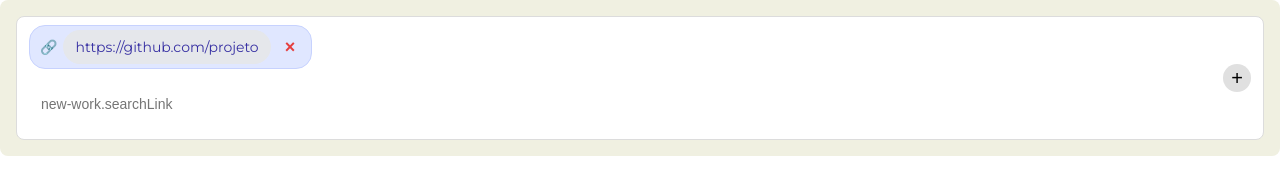
Test case: LinkInput - Sugestões › filtra sugestões de links já adicionados
The image size is (1280, 173).
Type "ht" into the field at (622, 104), box [29, 77, 1215, 131]
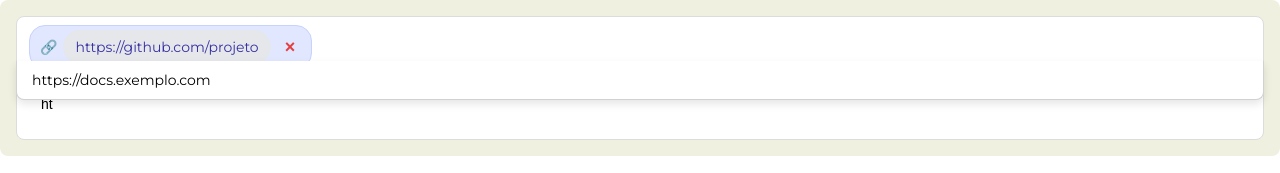
expect the number of links "https://github.com/projeto" is 1: met, box [64, 30, 271, 64]
expect the list item "https://docs.exemplo.com" is shown: met, box [32, 71, 211, 89]
